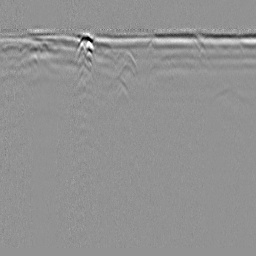cavity: (117, 58, 135, 79)
